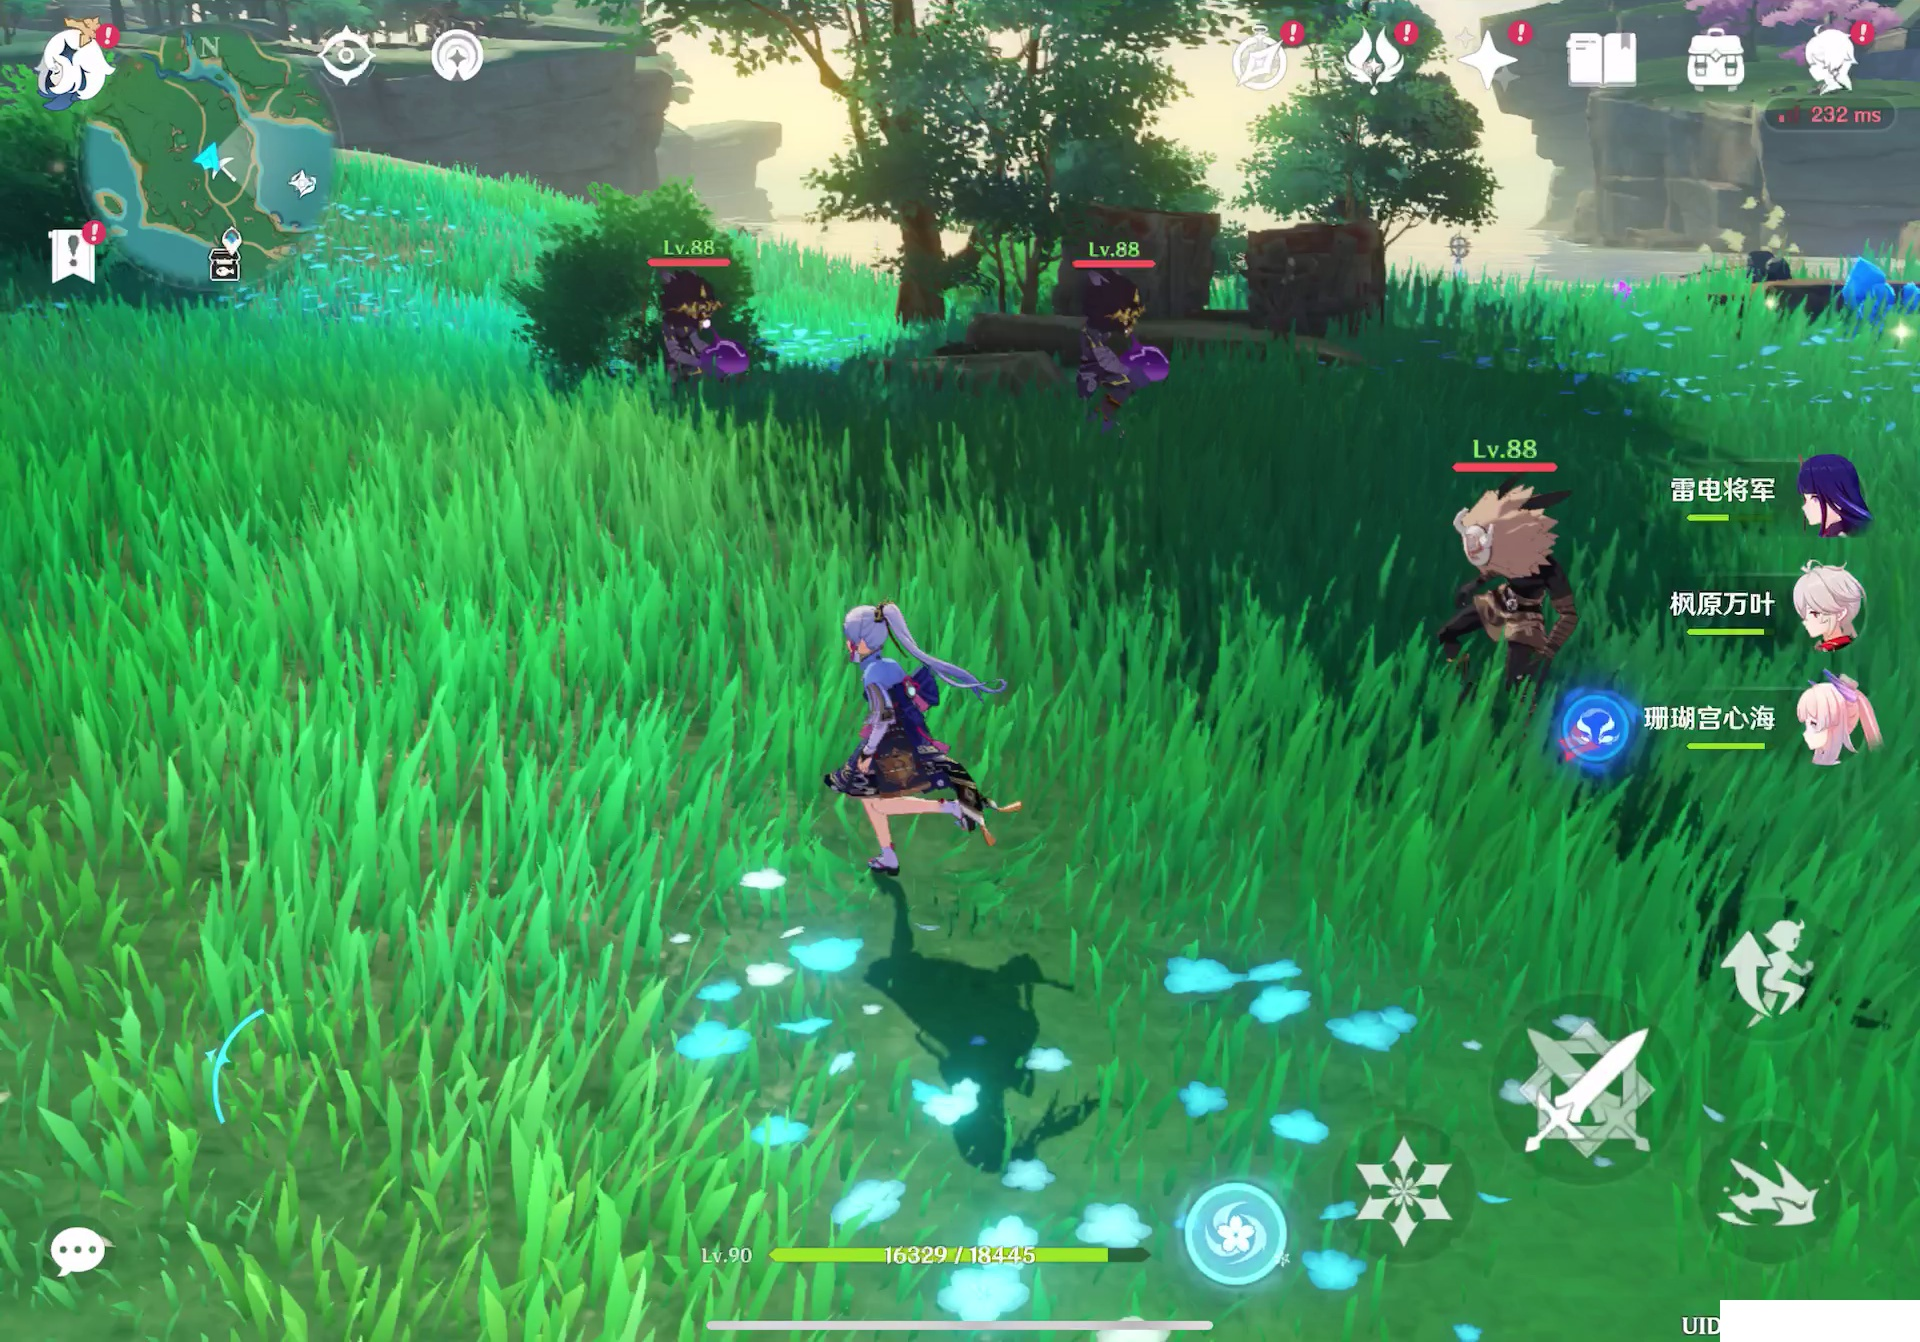丘丘人: (1437, 486, 1584, 675), (649, 279, 783, 407), (1068, 287, 1180, 430)
神里绫龟: (818, 565, 988, 872)
